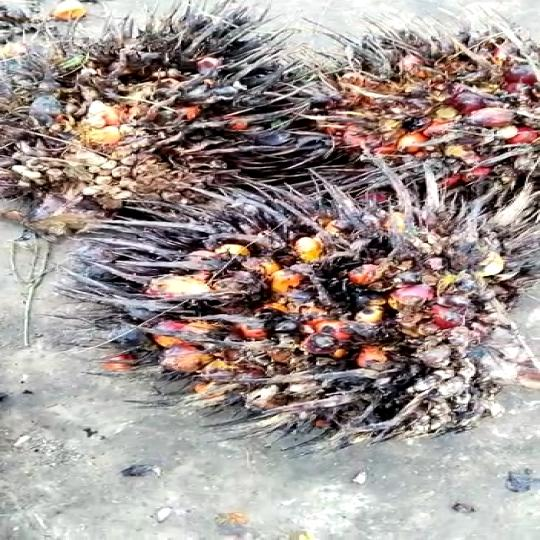terlalu masak: (78, 178, 540, 439), (0, 15, 313, 231), (277, 10, 540, 181)
